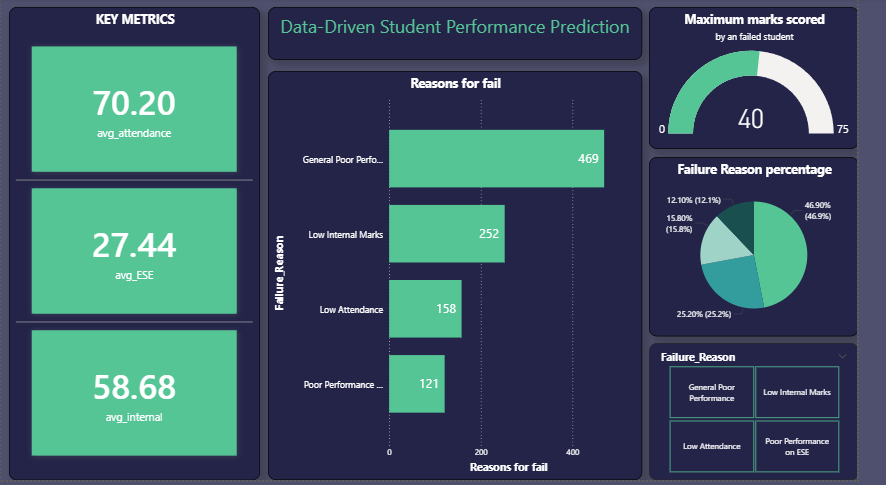

This screenshot's page, from the dashboard's own definition file:
{"tool":"powerbi","page":{"name":"Page 1","canvas":[1280,720],"ordinal":0},"visuals":[{"type":"textbox","box":[398.6,12.9,558.6,78.6],"z":0},{"type":"cardVisual","title":"KEY METRICS","fields":{"Data":["Sheet1.avg_attendance","Sheet1.avg_ESE","Sheet1.avg_internal"]},"box":[11.7,13.2,374.6,706.8],"z":1000},{"type":"barChart","title":"Reasons for fail","fields":{"Y":["Sheet1.REASON_MES"],"Category":["Sheet1.Failure_Reason"]},"box":[398.8,109,558.7,611],"z":2000},{"type":"gauge","title":"Maximum marks scored","fields":{"Y":["Sheet1.max_ESE"]},"box":[967.3,13.2,313.2,212.2],"z":3000},{"type":"pieChart","title":"Failure Reason percentage","fields":{"Y":["Sheet1.pie_measure"],"Category":["Sheet1.Failure_Reason"]},"box":[967.3,237.1,313.2,267.8],"z":4000},{"type":"slicer","fields":{"Values":["Sheet1.Failure_Reason"]},"box":[967.3,515.1,313.2,204.9],"z":5000}]}

Visuals, with their boxes in screenshot pixels (x1, y1, x2, y2), scaled from the page's 1280x720 canvas onto the 886x485 screenshot:
textbox: (x1=276, y1=9, x2=663, y2=62)
"KEY METRICS" cardVisual: (x1=8, y1=9, x2=267, y2=484)
"Reasons for fail" barChart: (x1=276, y1=73, x2=663, y2=484)
"Maximum marks scored" gauge: (x1=670, y1=9, x2=885, y2=152)
"Failure Reason percentage" pieChart: (x1=670, y1=160, x2=885, y2=340)
slicer - Sheet1.Failure_Reason: (x1=670, y1=347, x2=885, y2=484)
